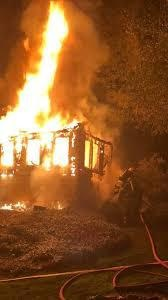fire: (0, 0, 79, 170)
